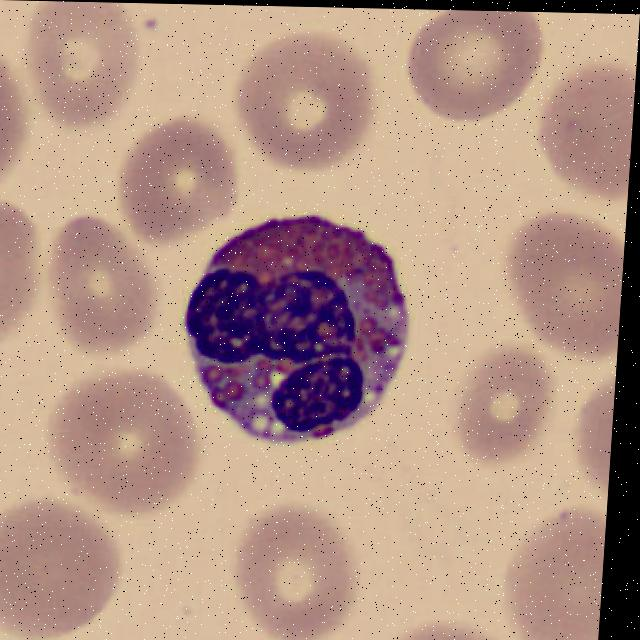eosinophil: (174, 209, 423, 443)
rbc: (38, 367, 199, 511), (219, 495, 374, 631), (107, 119, 253, 253), (232, 33, 380, 163), (34, 214, 161, 359), (395, 9, 553, 123), (509, 206, 627, 357), (0, 500, 125, 640), (527, 51, 637, 206), (24, 1, 152, 130), (495, 495, 608, 640), (440, 334, 552, 469), (562, 369, 616, 498), (0, 199, 48, 336), (0, 53, 41, 186), (389, 596, 499, 640)
